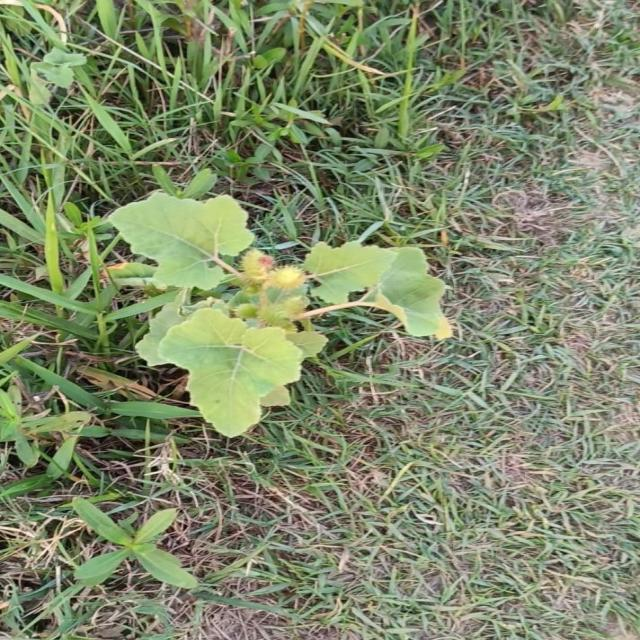weed: (108, 193, 451, 437)
